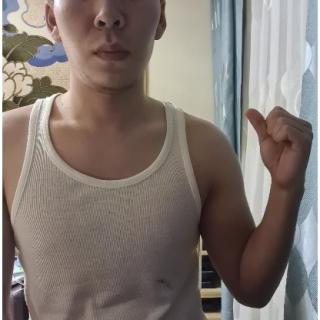WAW: (240, 104, 319, 184)
